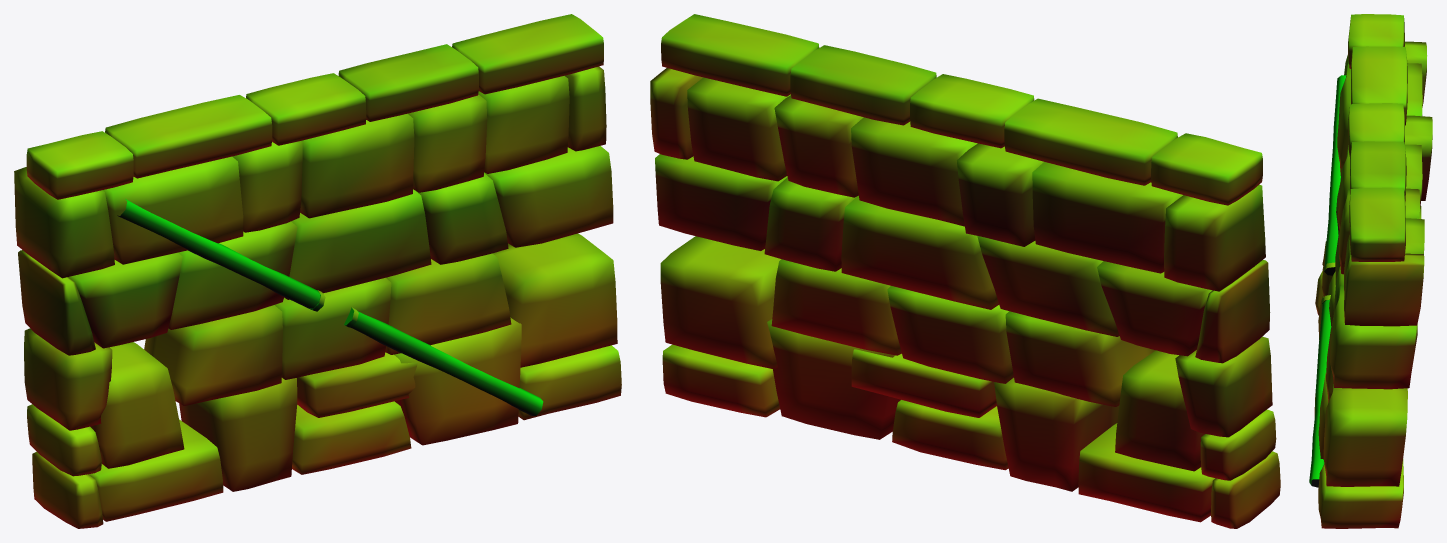
The model's file is terrace_wall_copper.glb.
3 views of the same model, side by side, from view 1: azimuth 30°, elevation 25°; view 2: azimuth 150°, elevation 25°; view 3: azimuth 270°, elevation 25° (orthographic). The views are drawn at different scales.
Parts seen in each view (by area): view 1: terrace_wall_copper; view 2: terrace_wall_copper; view 3: terrace_wall_copper.
Boxes of the visible parts, x1=… form: terrace_wall_copper: x1=14, y1=14, x2=621, y2=528; terrace_wall_copper: x1=650, y1=14, x2=1280, y2=528; terrace_wall_copper: x1=1309, y1=14, x2=1432, y2=528.
Size of what is drawn, in the model's own units: 4 by 2.44 by 0.924.
